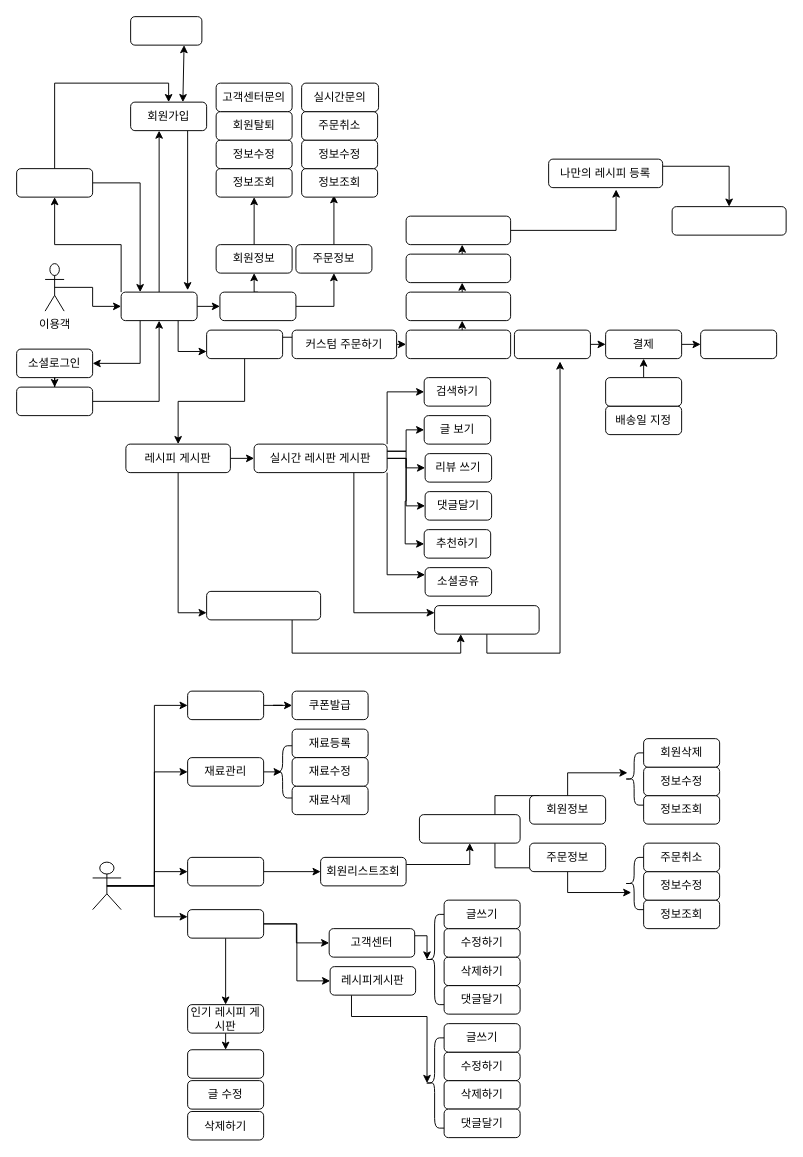
Image size: 803x1157. Some labels were removed from this diagram. Each missing label, with the centre of its shape:
1단계 야채선택: the point at 458,344
2단계 육류선택: the point at 458,306
3단계 해산물선택: the point at 458,268
4단계 소스선택: the point at 458,230
ID/PW 찾기: the point at 54,182
개별회원정보조회: the point at 469,828
게시판 관리: the point at 225,923
관리자: the point at 106,885
로그인: the point at 158,306
마이페이지: the point at 257,306
샐러드 주문: the point at 244,344
선택하기: the point at 486,619
소셜정보가입: the point at 54,401
실시간 레시피 게시판 글 등록: the point at 728,220
이메일인증: the point at 166,30
인기상품 등록: the point at 225,1063
장바구니: the point at 551,344
주간 인기 레시피: the point at 263,605
주문완료: the point at 738,344
쿠폰관리: the point at 225,705
쿠폰적용: the point at 643,391
회원관리: the point at 225,871
